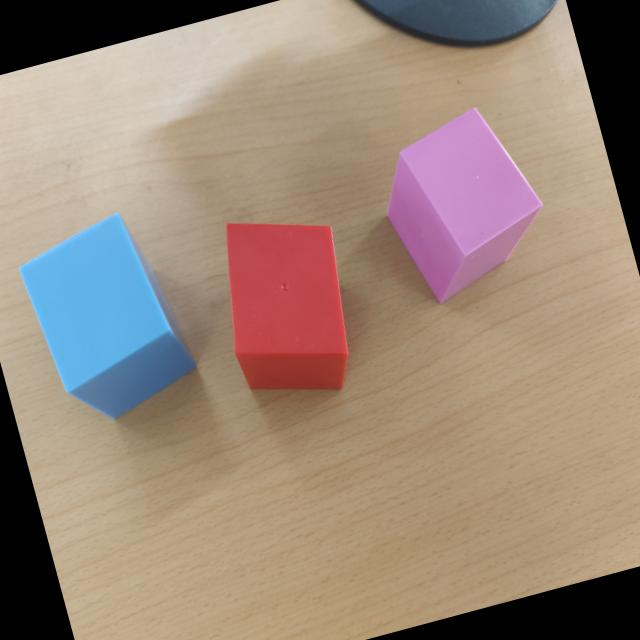blue: (18, 212, 197, 421)
pink: (386, 108, 544, 305)
red: (226, 222, 349, 392)
